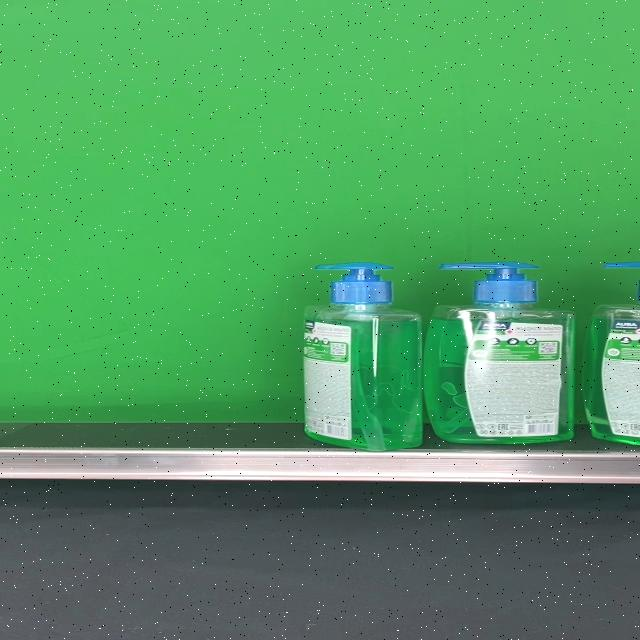Bottle: (424, 261, 574, 444), (303, 261, 423, 451)
Cap: (439, 260, 539, 302), (315, 262, 396, 303)
